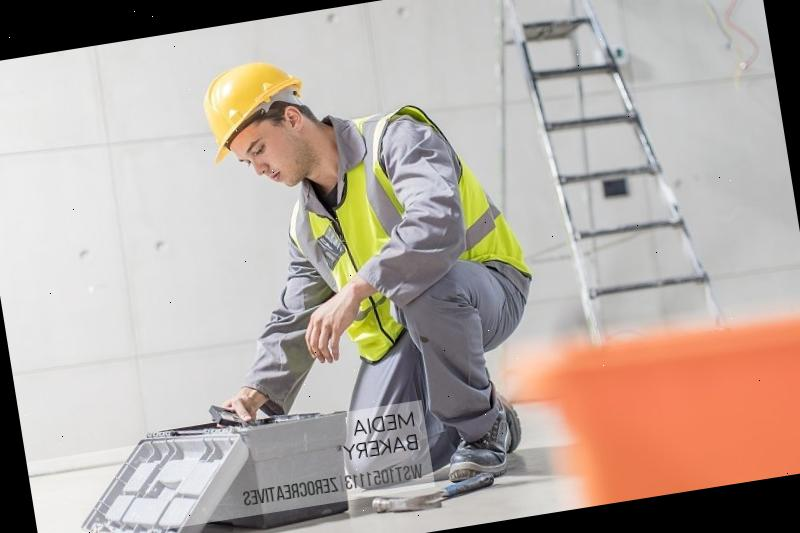helmet: (190, 51, 316, 166)
wear: (308, 94, 550, 366)
